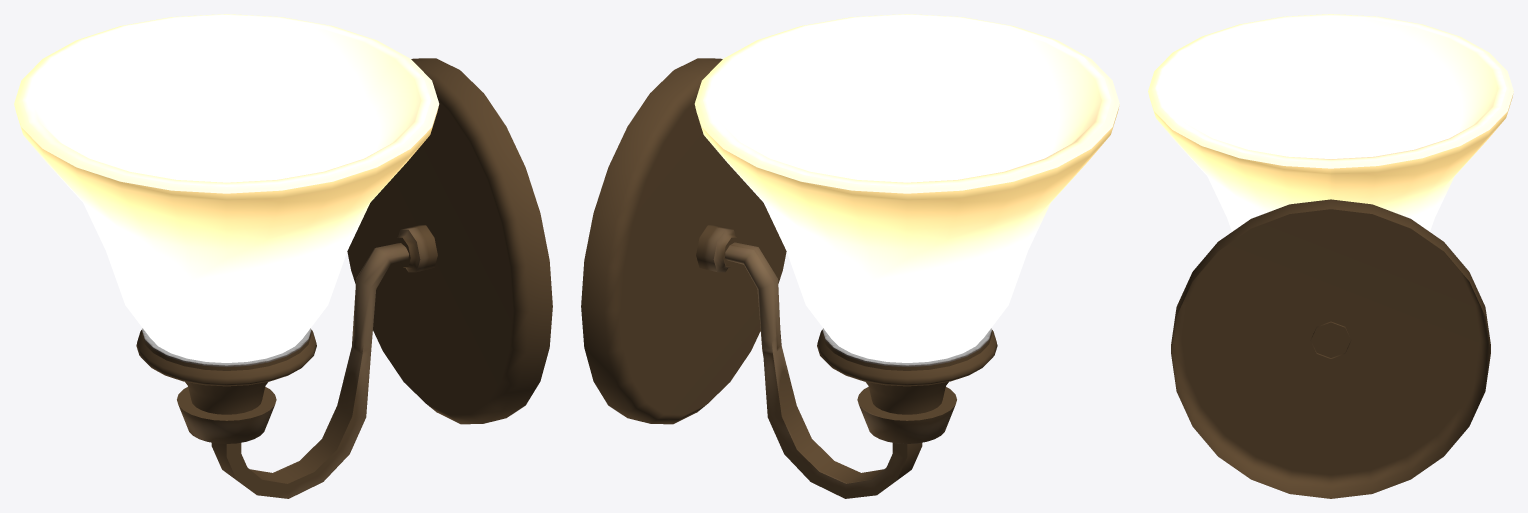
The model's file is lights_sconce.fbx.
3 views of the same model, side by side, from view 1: azimuth 30°, elevation 25°; view 2: azimuth 150°, elevation 25°; view 3: azimuth 270°, elevation 25° (orthographic). The views are drawn at different scales.
Parts seen in each view (by area): view 1: lights lowpoly.002; view 2: lights lowpoly.002; view 3: lights lowpoly.002.
Boxes of the visible parts, x1=… form: lights lowpoly.002: x1=14, y1=14, x2=552, y2=498; lights lowpoly.002: x1=581, y1=14, x2=1119, y2=498; lights lowpoly.002: x1=1148, y1=14, x2=1513, y2=498.
Size of the model in its own units: 23.4 by 21.76 by 20.64.
